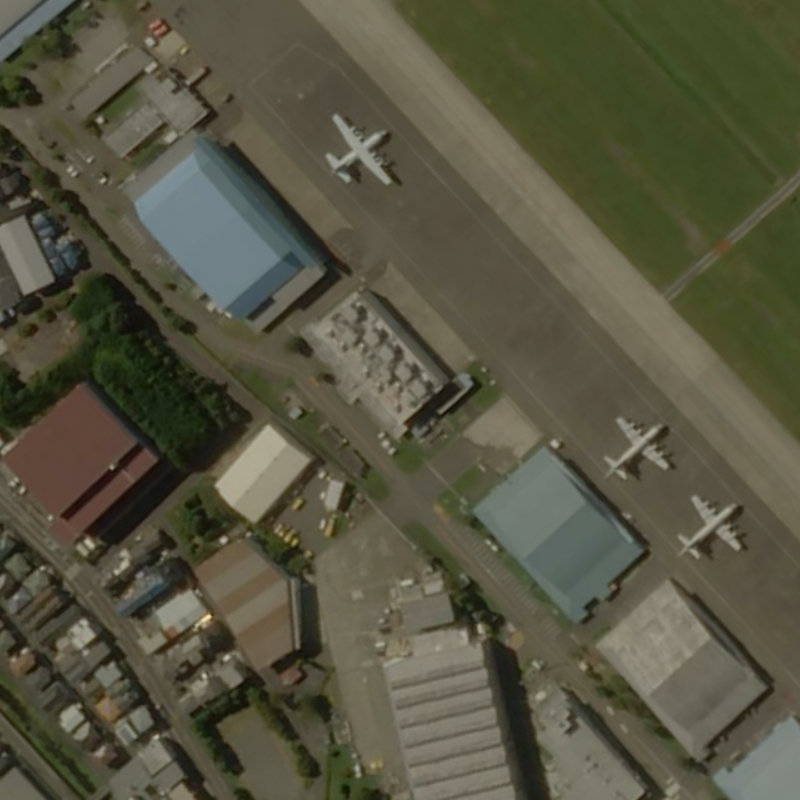A2: (323, 110, 403, 193)
A9: (672, 488, 754, 565), (605, 407, 674, 485)
